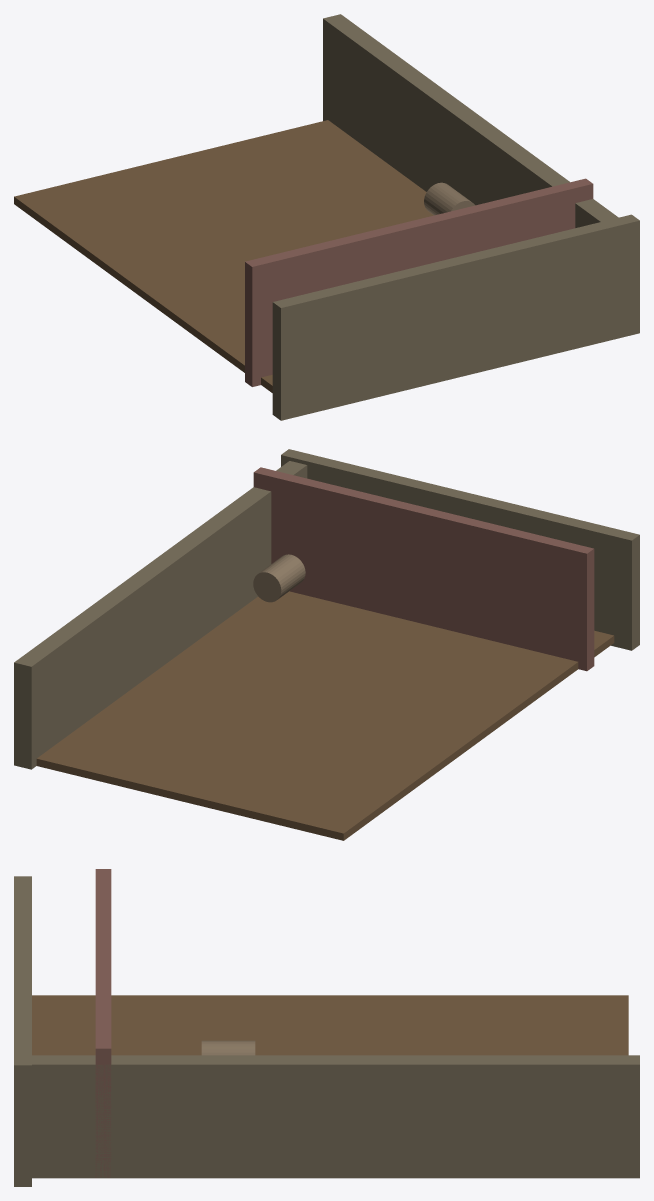
Rendered from shelf.glb.
3 renders of one model, top to bottom at view 1: azimuth 30°, elevation 25°; view 2: azimuth 150°, elevation 25°; view 3: azimuth 270°, elevation 25°, orthographic. The views are drawn at different scales.
Visible parts, largest first — view 1: shelf_back, shelf_crown, shelf_upright, shelf_plank, shelf_jar; view 2: shelf_back, shelf_plank, shelf_upright, shelf_crown, shelf_jar; view 3: shelf_upright, shelf_back, shelf_crown, shelf_plank, shelf_jar.
Boxes of the visible parts, left/top/right/bottom form: shelf_back: left=14, top=120, right=433, bottom=392; shelf_crown: left=272, top=214, right=639, bottom=420; shelf_upright: left=323, top=14, right=630, bottom=335; shelf_plank: left=245, top=178, right=593, bottom=386; shelf_jar: left=424, top=182, right=475, bottom=215; shelf_back: left=36, top=591, right=614, bottom=840; shelf_plank: left=253, top=467, right=594, bottom=671; shelf_upright: left=14, top=461, right=307, bottom=769; shelf_crown: left=281, top=449, right=639, bottom=650; shelf_jar: left=253, top=554, right=305, bottom=602; shelf_upright: left=32, top=1055, right=639, bottom=1178; shelf_back: left=32, top=995, right=628, bottom=1055; shelf_crown: left=14, top=876, right=31, bottom=1186; shelf_plank: left=95, top=869, right=111, bottom=1177; shelf_jar: left=201, top=1040, right=255, bottom=1055.
Bounding box in the file's own units: 1 × 0.33 × 1.4.
